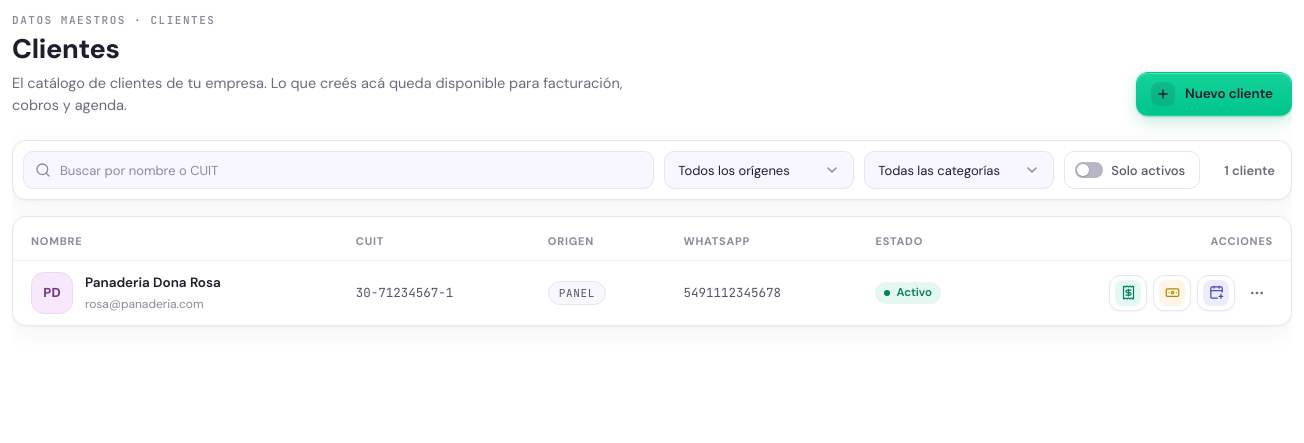
Test: ListadoDeClientes › el menú ⋯ se abre, ofrece Editar y Desactivar y se cierra con Escape
Click the button named "Más acciones para Panaderia" at coordinates (1257, 293), box [1241,277,1273,309]
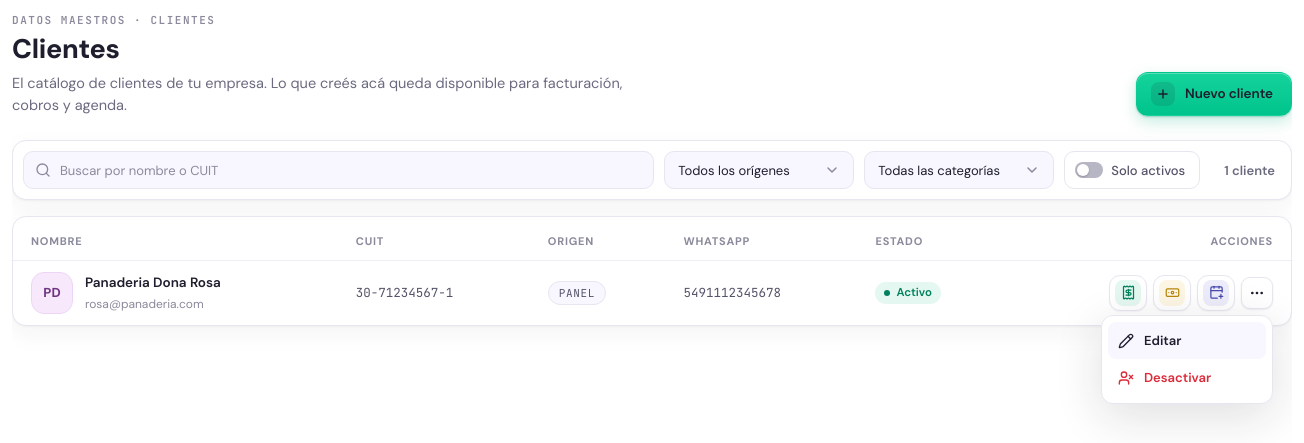
Expected: the menu is shown, [1101,315,1273,404]
Expected: the menu item "Editar" is shown, [1108,322,1266,359]
Expected: the menu item "Desactivar" is shown, [1108,359,1266,397]
Press Escape
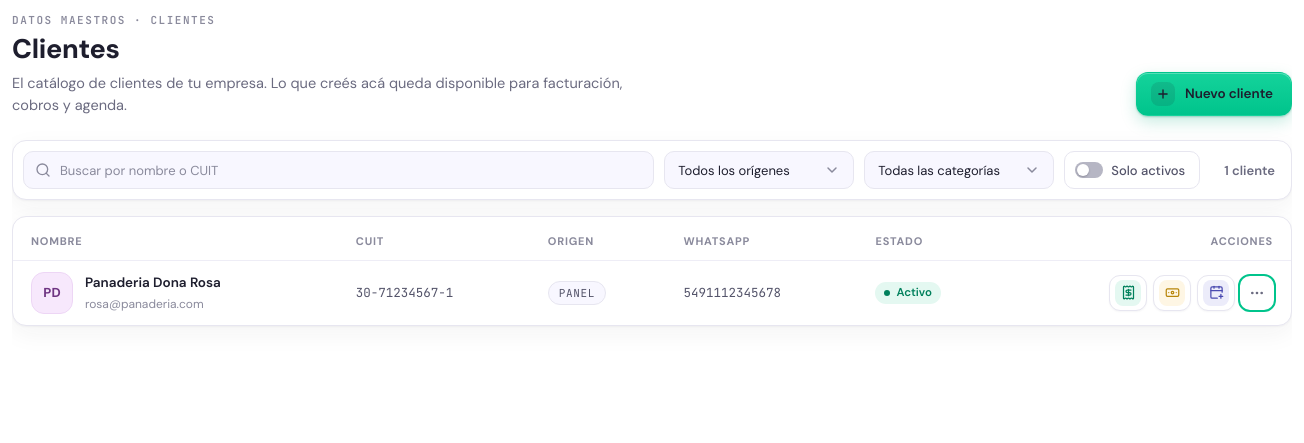
Expected: the menu is gone
